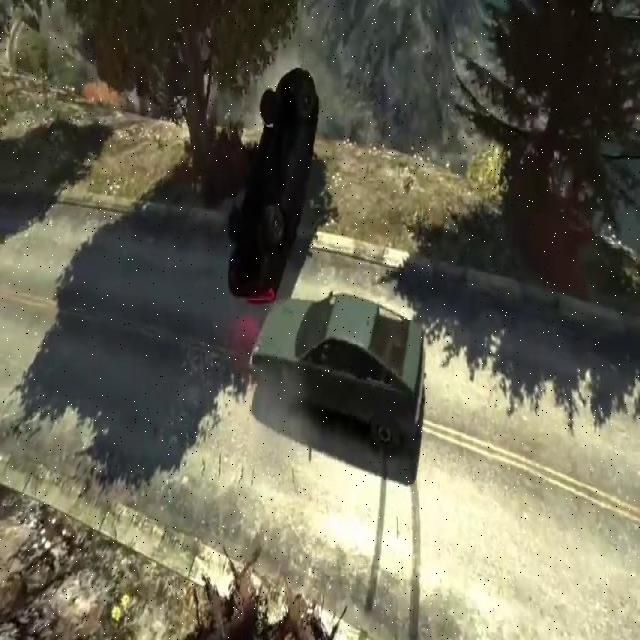severe: (222, 61, 320, 306)
